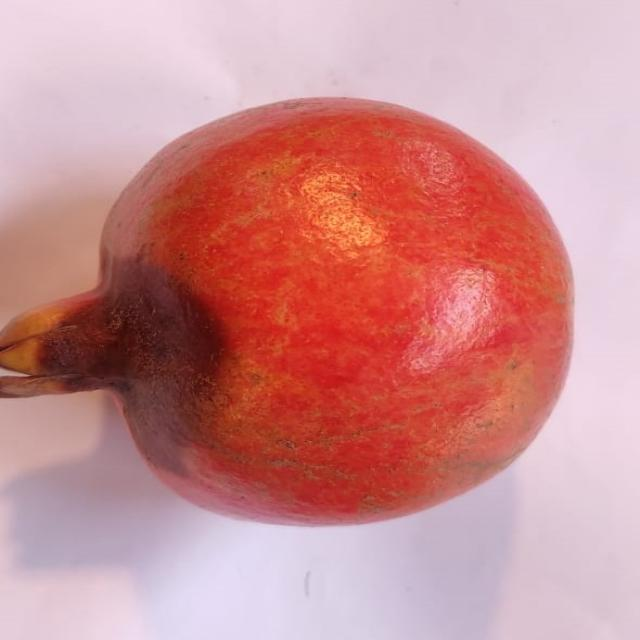Rotten: (4, 94, 586, 534)
